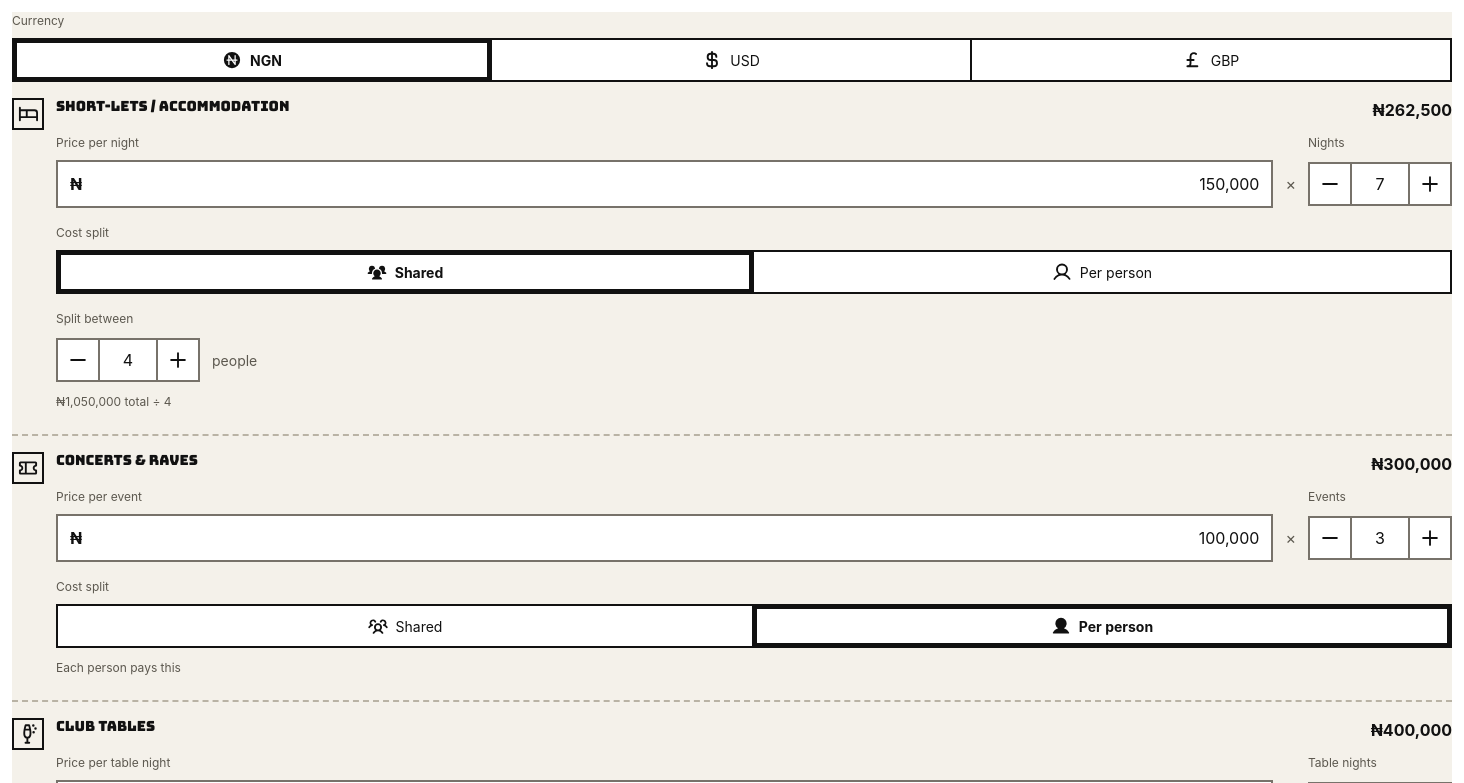
CurrencyControl › converts to pounds
Click the text "GBP" at (1211, 60), box [970,38,1452,82]
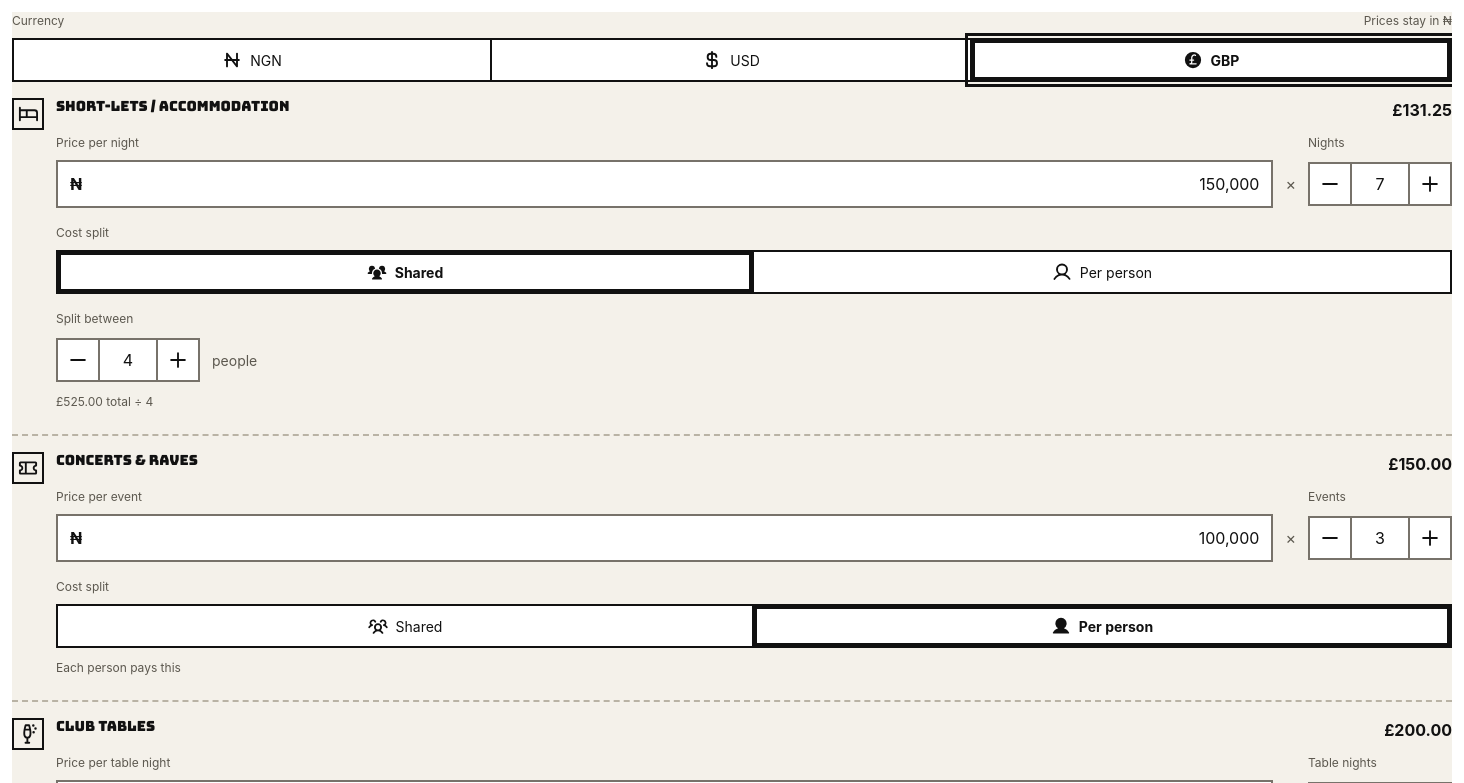
Check: the text "£525.00 total ÷ 4" is shown, box [56,394,153,409]
